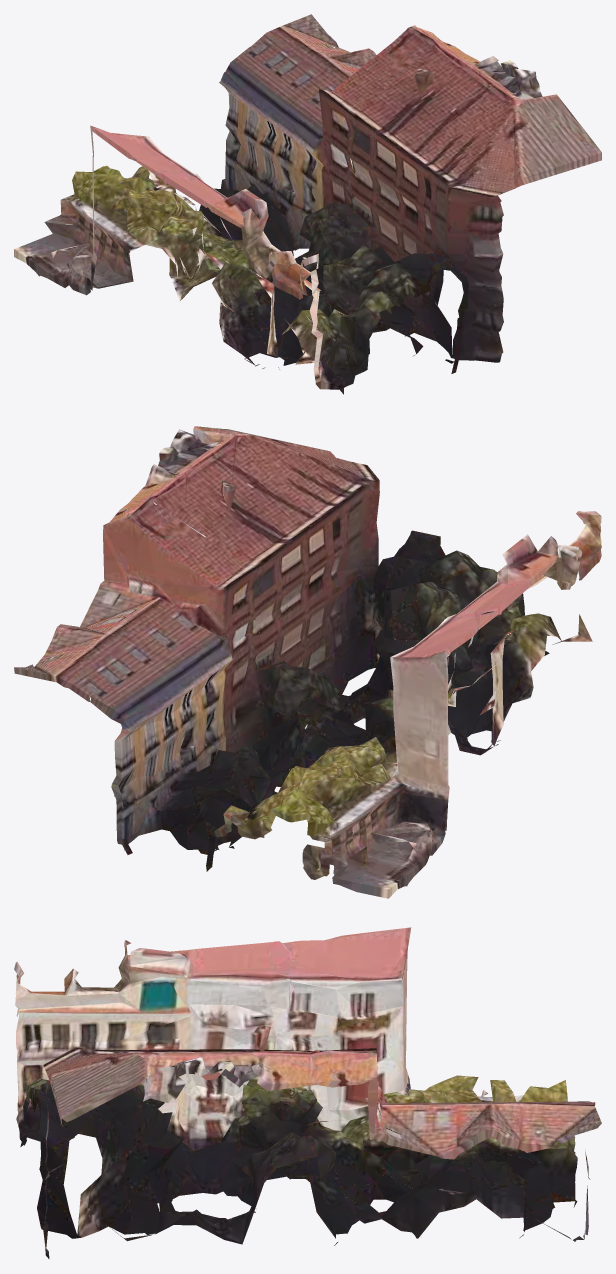
3 renders of one model, top to bottom at view 1: azimuth 30°, elevation 25°; view 2: azimuth 150°, elevation 25°; view 3: azimuth 270°, elevation 25°, orthographic. The views are drawn at different scales.
Parts seen in each view (by area): view 1: Mesh_0; view 2: Mesh_0; view 3: Mesh_0.
Part boxes in pixels (x1,y1,x2,y2): Mesh_0: (14, 14, 601, 394); Mesh_0: (14, 426, 601, 898); Mesh_0: (14, 927, 601, 1258).
Bounding box in the file's own units: 33.3 × 19.67 × 41.45.
Materials: 2 (2 with a texture image).
